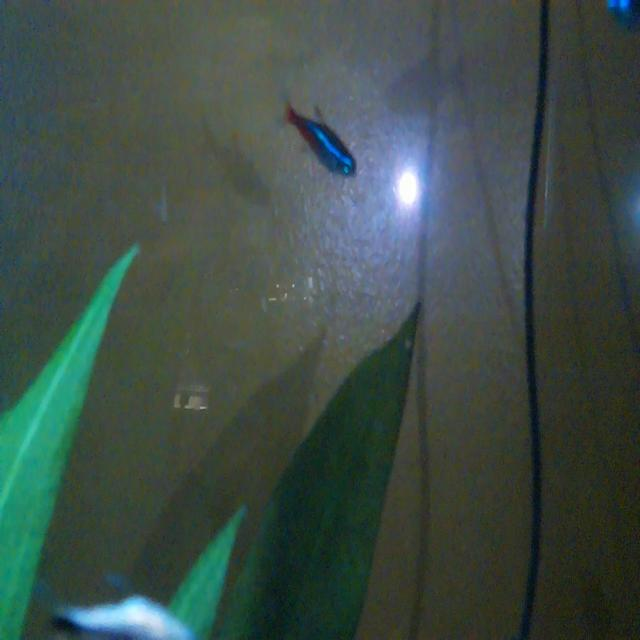fish: (275, 91, 364, 187)
